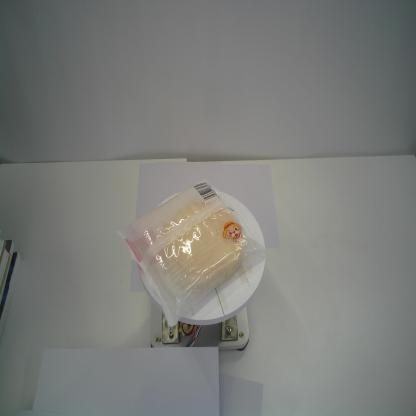Dessert: (115, 175, 270, 329)
